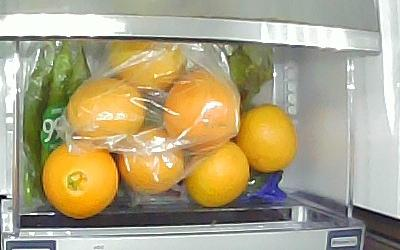orange: (41, 138, 118, 218), (183, 139, 249, 207), (234, 102, 297, 172)
orange_vinyl: (162, 67, 239, 150), (66, 77, 146, 143), (116, 125, 186, 192), (108, 39, 188, 93)
